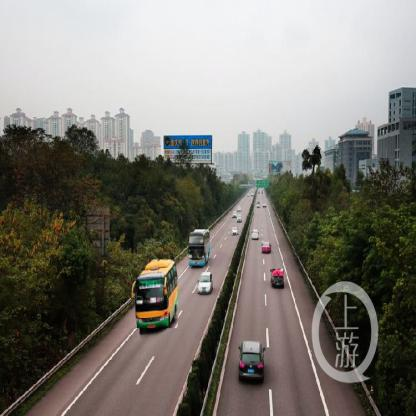bus: (132, 260, 180, 330), (190, 230, 210, 268)
car: (241, 340, 266, 381), (197, 273, 212, 296), (271, 270, 286, 291), (261, 241, 273, 255), (251, 231, 259, 241), (237, 216, 243, 225), (231, 229, 237, 236), (238, 206, 243, 214), (232, 212, 237, 219)
